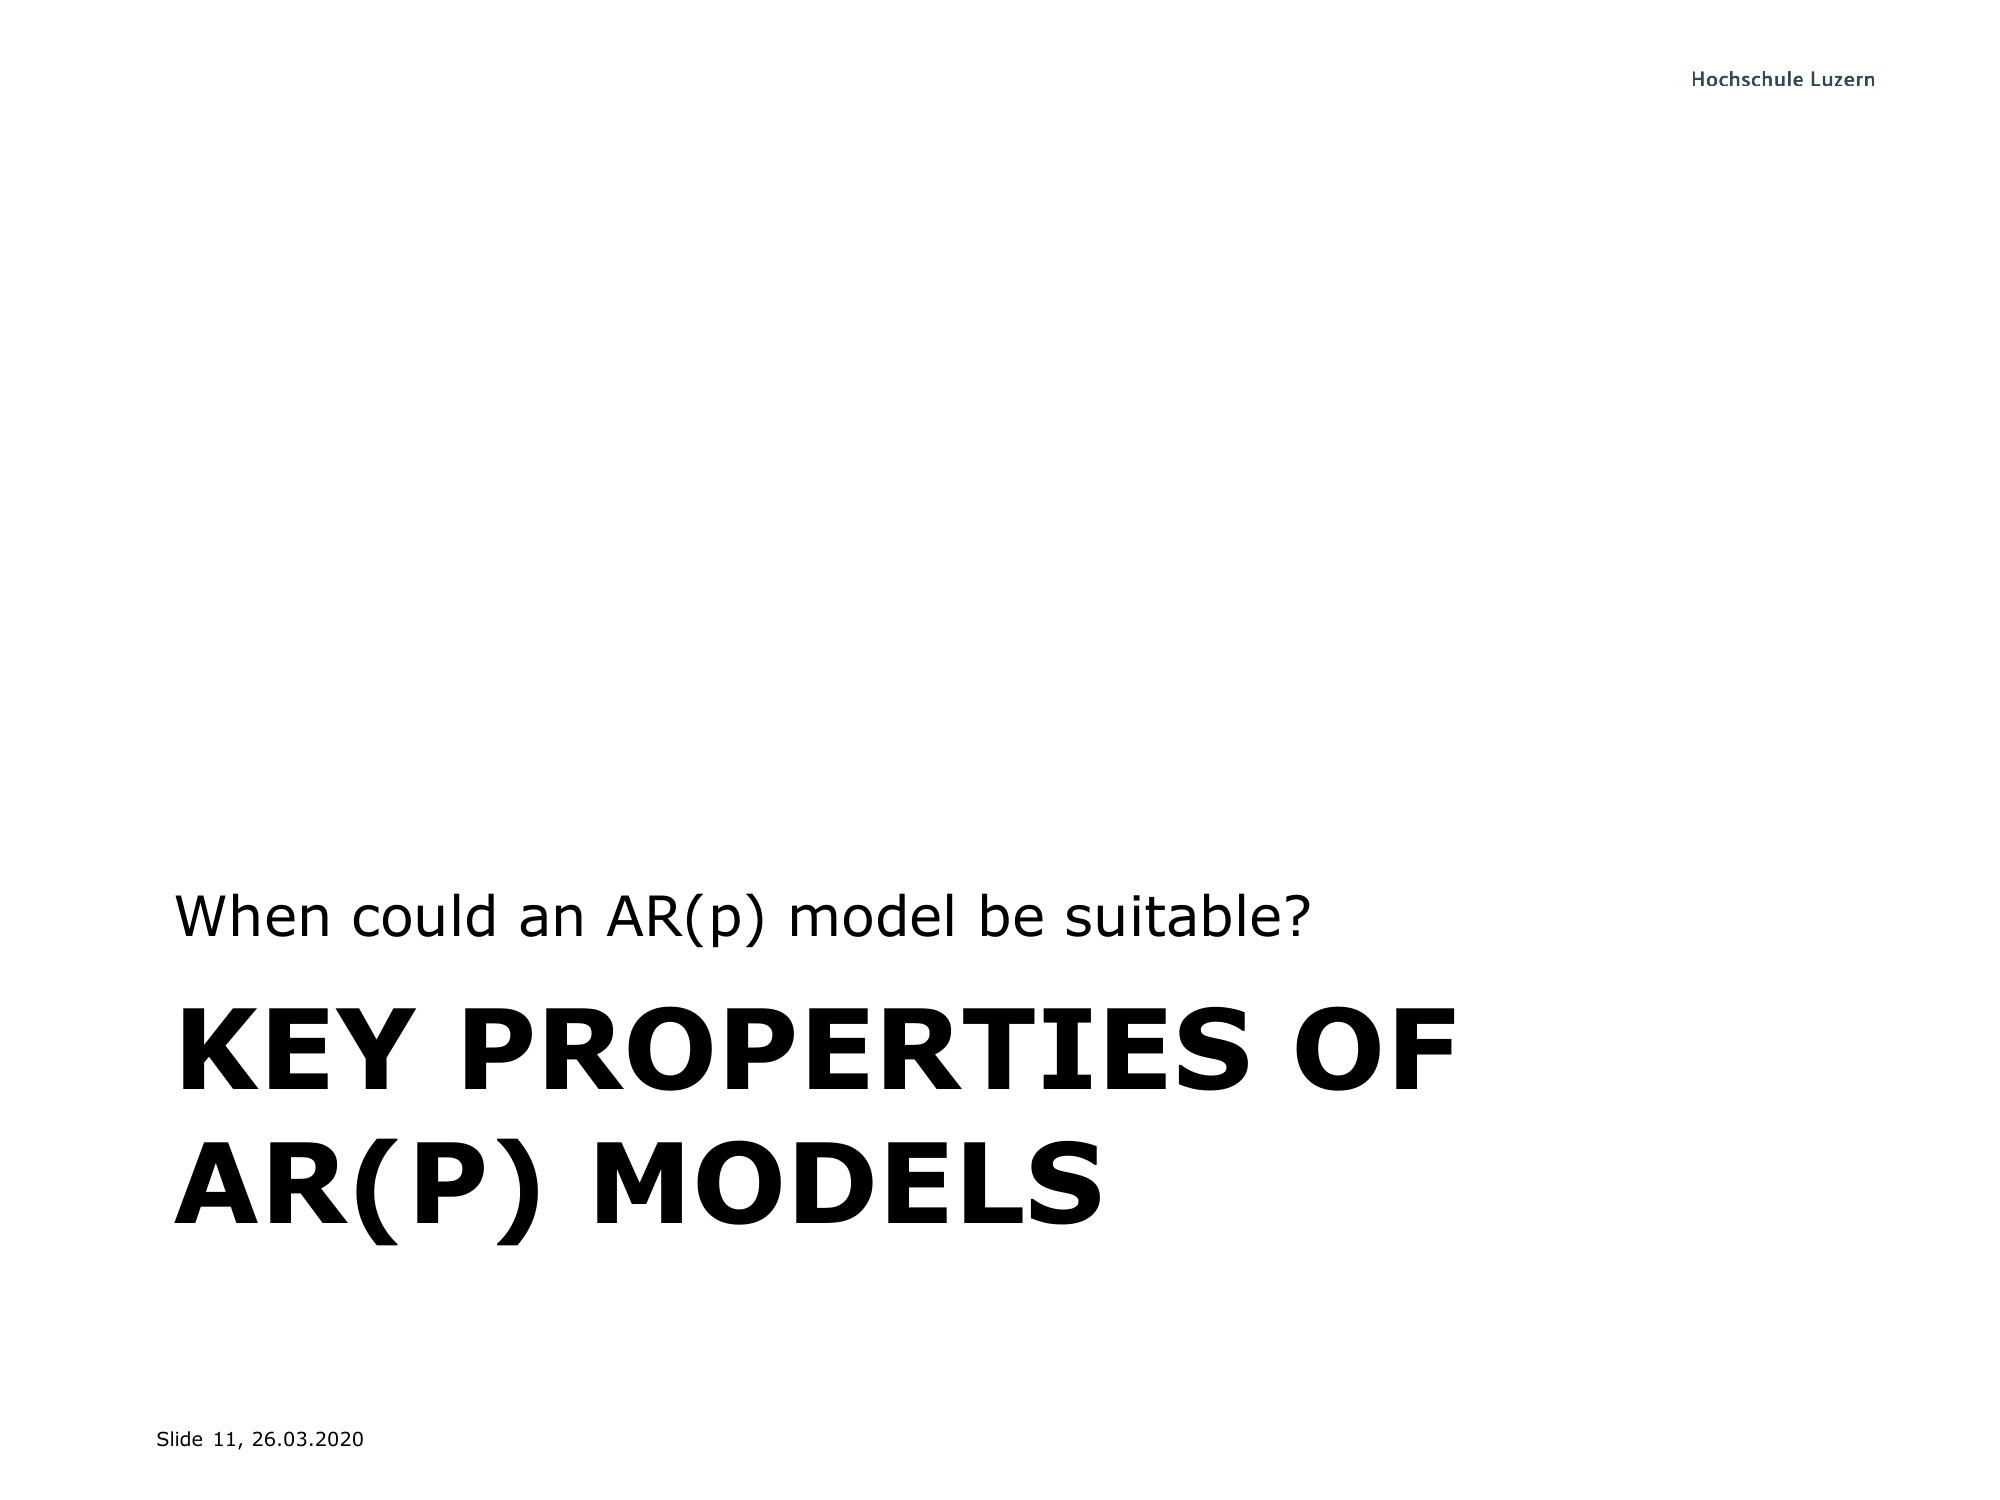Title: (139, 983, 1479, 1254)
